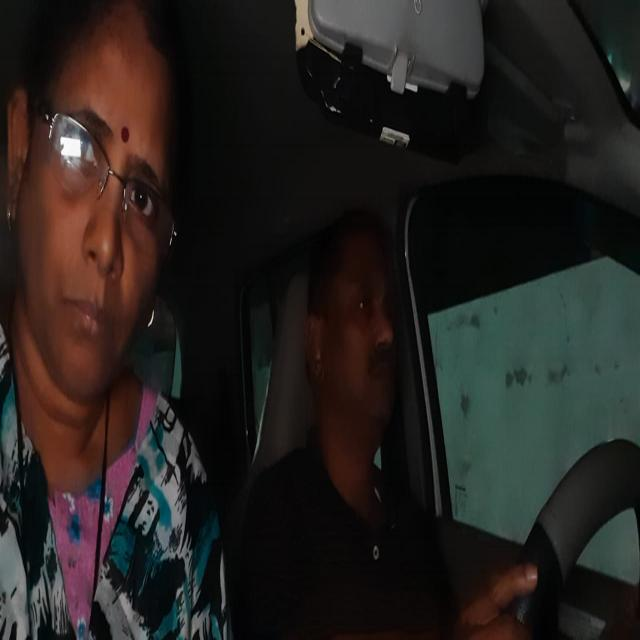person: (0, 2, 190, 428), (300, 201, 402, 456)
